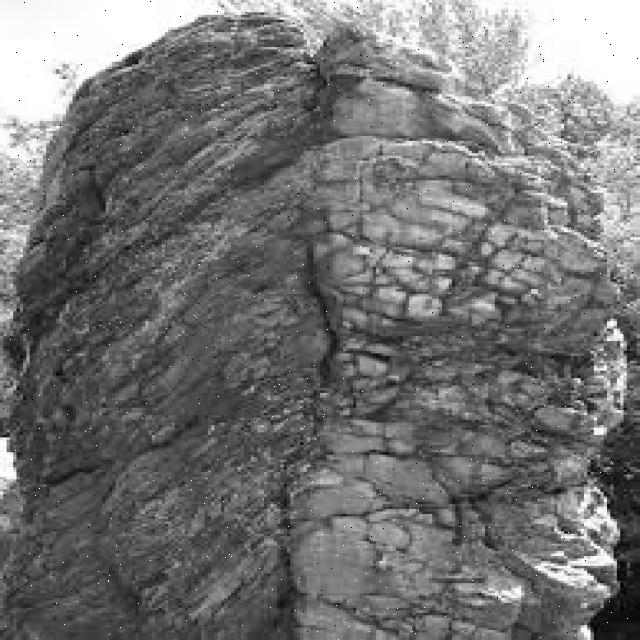Metamorphic: (3, 5, 640, 635)
